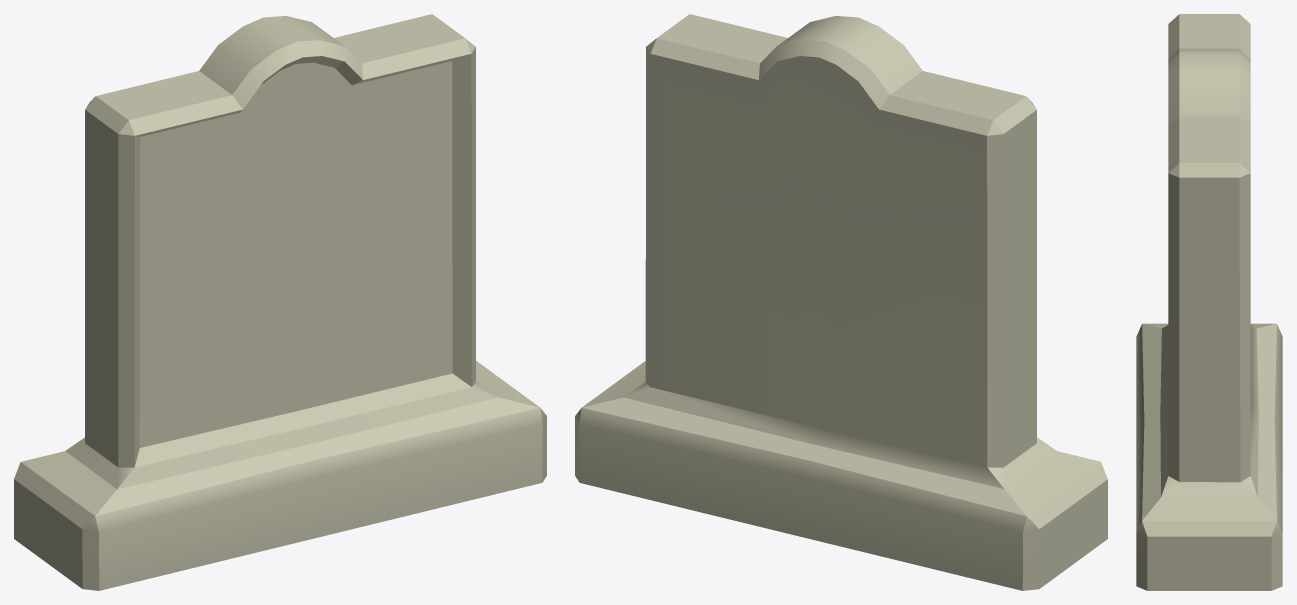
File: Lapida1.fbx
3 renders of one model, left to right at view 1: azimuth 30°, elevation 25°; view 2: azimuth 150°, elevation 25°; view 3: azimuth 270°, elevation 25°, orthographic. The views are drawn at different scales.
Visible parts, largest first — view 1: Lapida1; view 2: Lapida1; view 3: Lapida1.
Boxes of the visible parts, x1=… form: Lapida1: x1=14, y1=14, x2=546, y2=590; Lapida1: x1=575, y1=14, x2=1107, y2=590; Lapida1: x1=1136, y1=14, x2=1282, y2=590.
Bounding box in the file's own units: 106 × 104 × 31.92.
